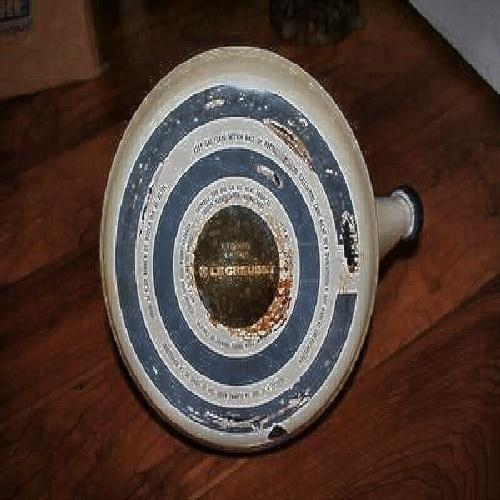kettle: (79, 48, 427, 453)
